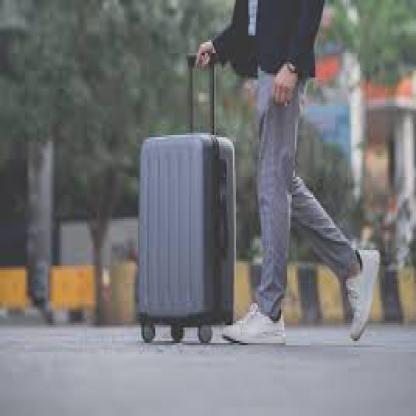maleta: (121, 119, 241, 374)
